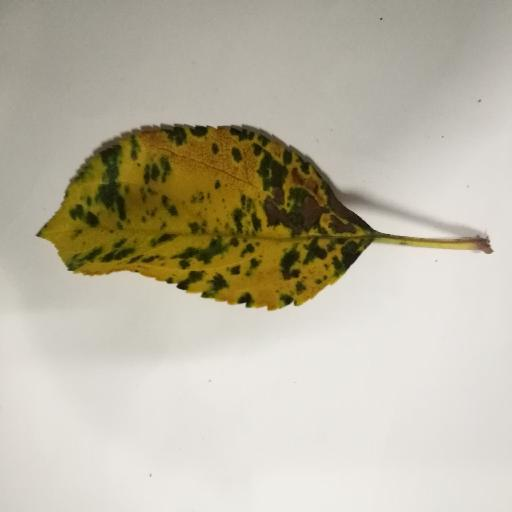Brown_Spot: (251, 164, 365, 237)
